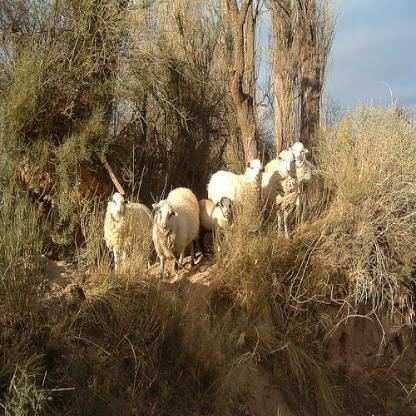sheep: (150, 188, 200, 286), (102, 191, 155, 276), (261, 148, 299, 236), (207, 159, 266, 204), (198, 196, 235, 255), (289, 143, 312, 218)
